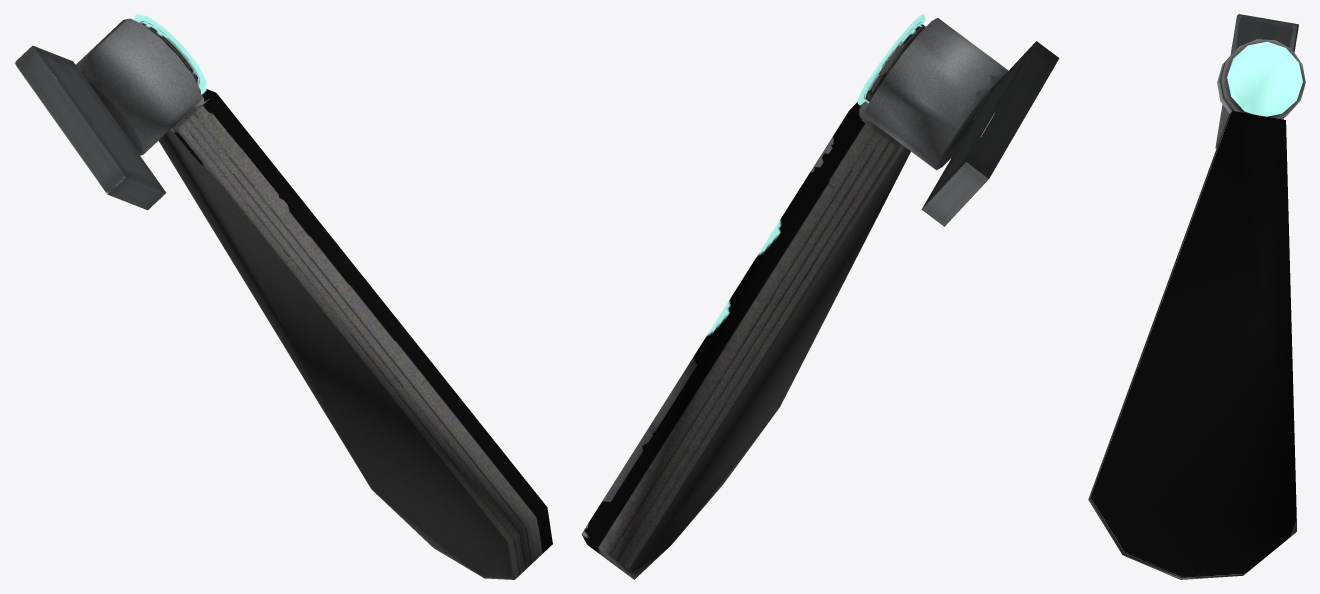
The model's file is bw6_fan_shield.gltf.
3 views of the same model, side by side, from view 1: azimuth 30°, elevation 25°; view 2: azimuth 150°, elevation 25°; view 3: azimuth 270°, elevation 25° (orthographic). The views are drawn at different scales.
Visible parts, largest first — view 1: B_forearm_L__bw6_fan_shield; view 2: B_forearm_L__bw6_fan_shield; view 3: B_forearm_L__bw6_fan_shield.
Part boxes in pixels (x1=…): B_forearm_L__bw6_fan_shield: x1=14, y1=14, x2=552, y2=579; B_forearm_L__bw6_fan_shield: x1=581, y1=14, x2=1059, y2=579; B_forearm_L__bw6_fan_shield: x1=1088, y1=14, x2=1305, y2=579.
Bounding box in the file's own units: 0.3024 × 0.3926 × 0.1772.
Materials: 1 (1 with a texture image).
